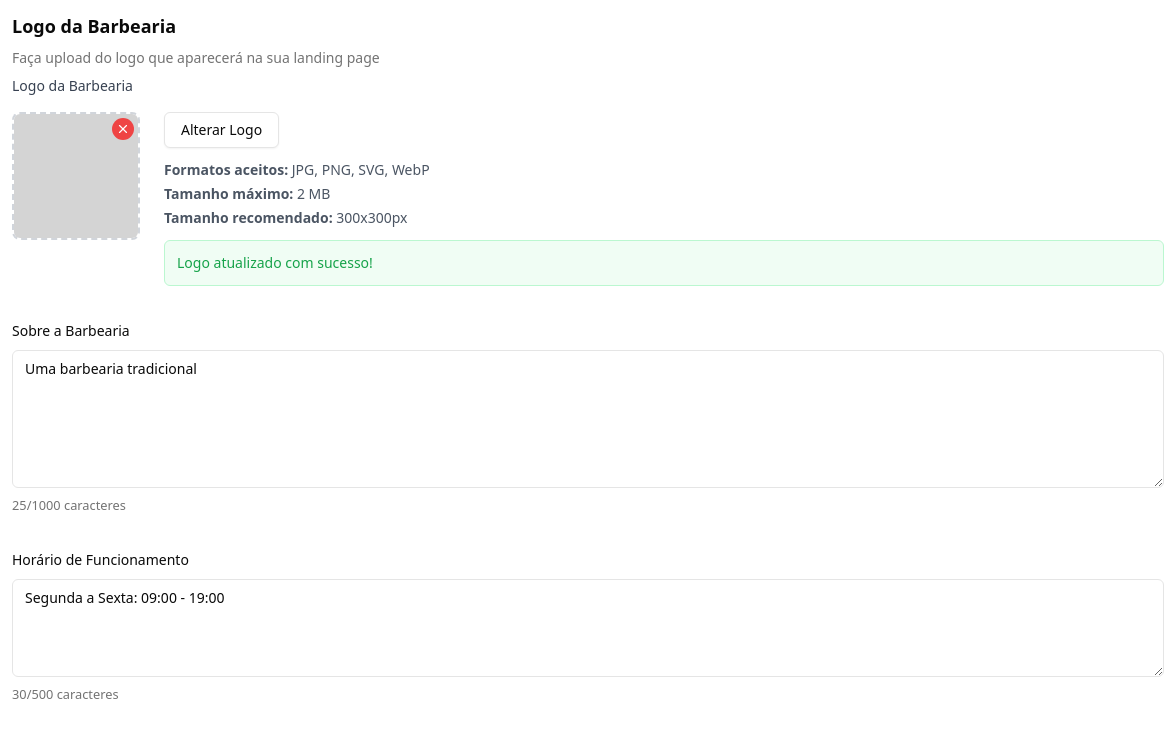
Test case: LandingPageForm › Validation › should show openingHours character counter
Replace the text in the text box labelled "Horário de Funcionamento" with "Test" at (588, 628), box [12, 579, 1164, 677]
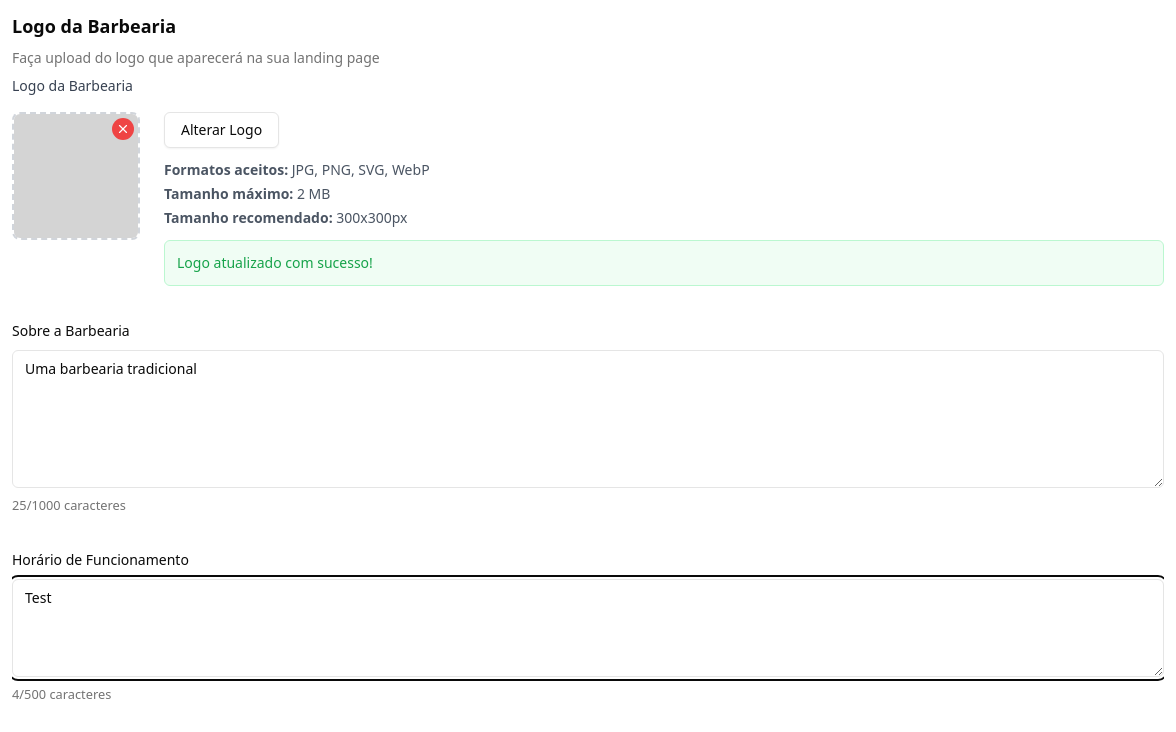
Expected: the text "4/500 caracteres" is shown, [12, 685, 111, 703]
